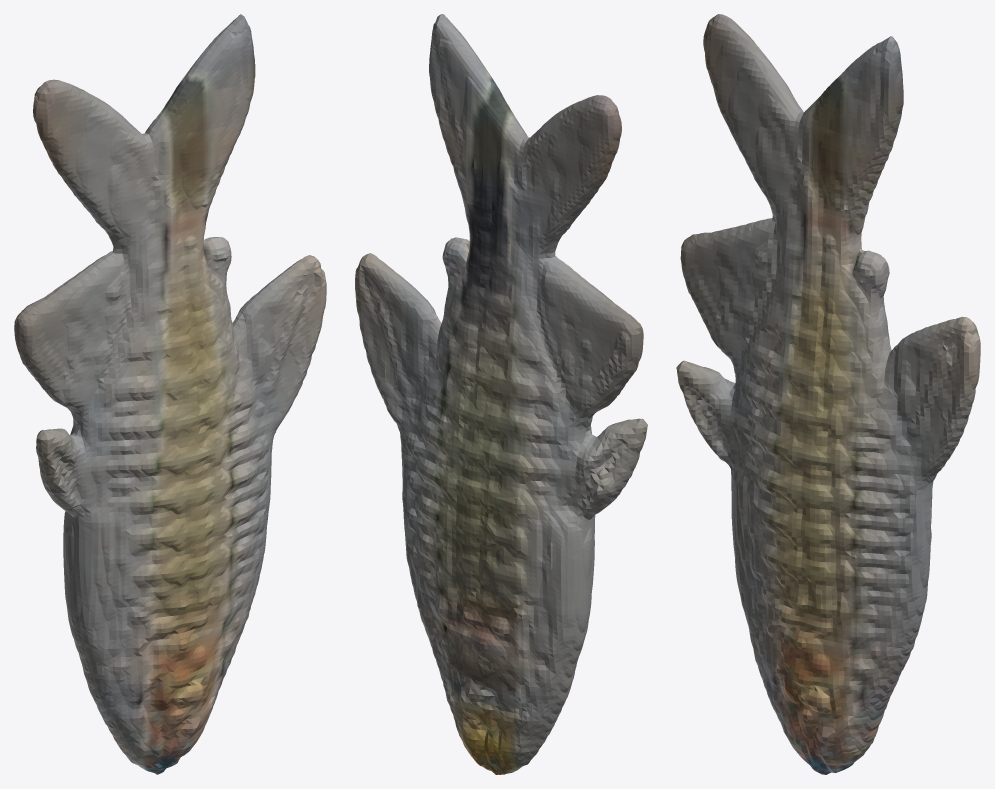
File: ablennes-hians.glb
The picture shows the model from 3 angles, left to right: view 1: azimuth 30°, elevation 25°; view 2: azimuth 150°, elevation 25°; view 3: azimuth 330°, elevation 25°; orthographic projection. The views are drawn at different scales.
Visible parts, largest first — view 1: world; view 2: world; view 3: world.
Part boxes in pixels (<box>): world: <box>14,14,326,774</box>; world: <box>355,14,647,774</box>; world: <box>676,14,980,774</box>.
Bounding box in the file's own units: 0.4572 × 1.09 × 0.1314.
